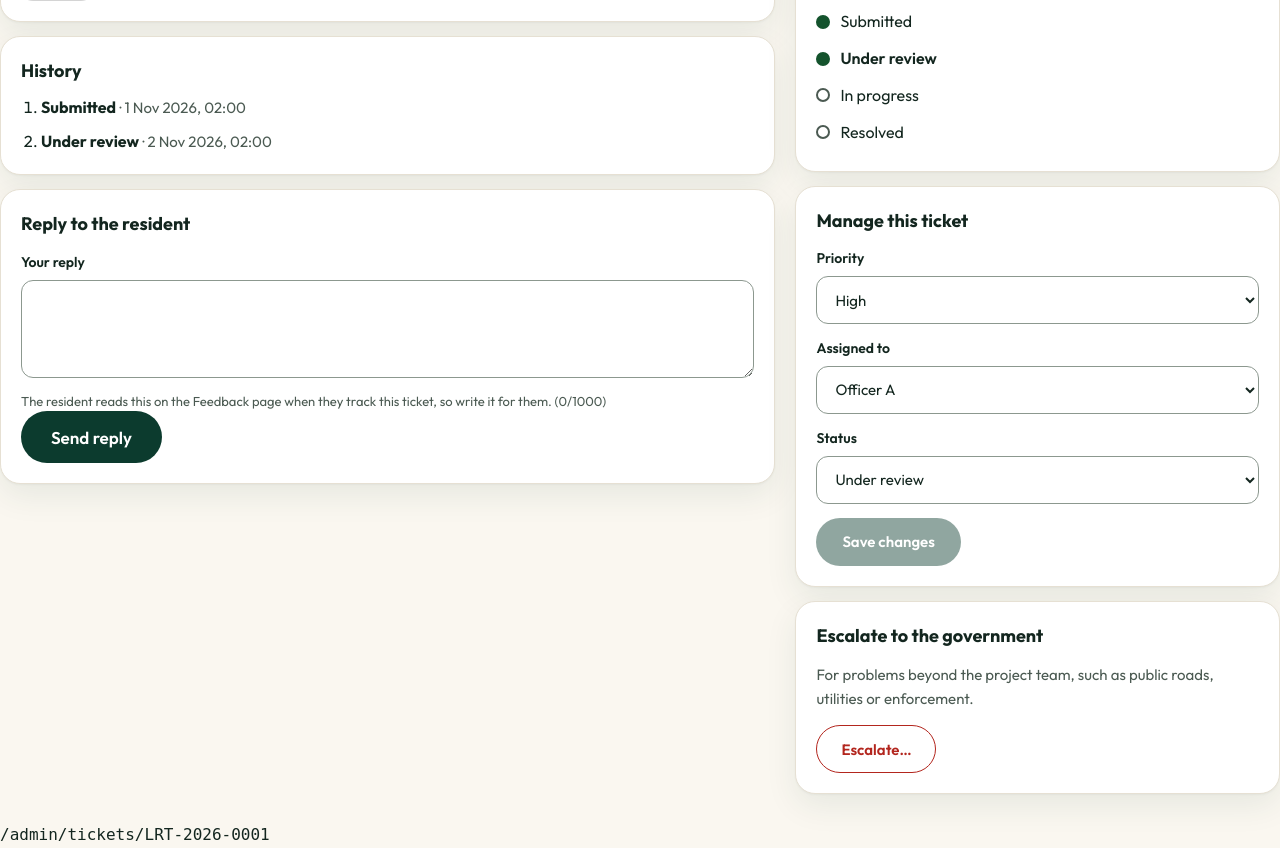
Test: ticket page (UC04 to UC07) › saves only what changed, then shows the new history entry
The image size is (1280, 848).
(page scrolled)
Expected: the button "Save changes" is disabled, [816, 518, 961, 566]
Select "In progress" in the dropdown labelled "Status" at (1038, 480), box [816, 456, 1259, 504]
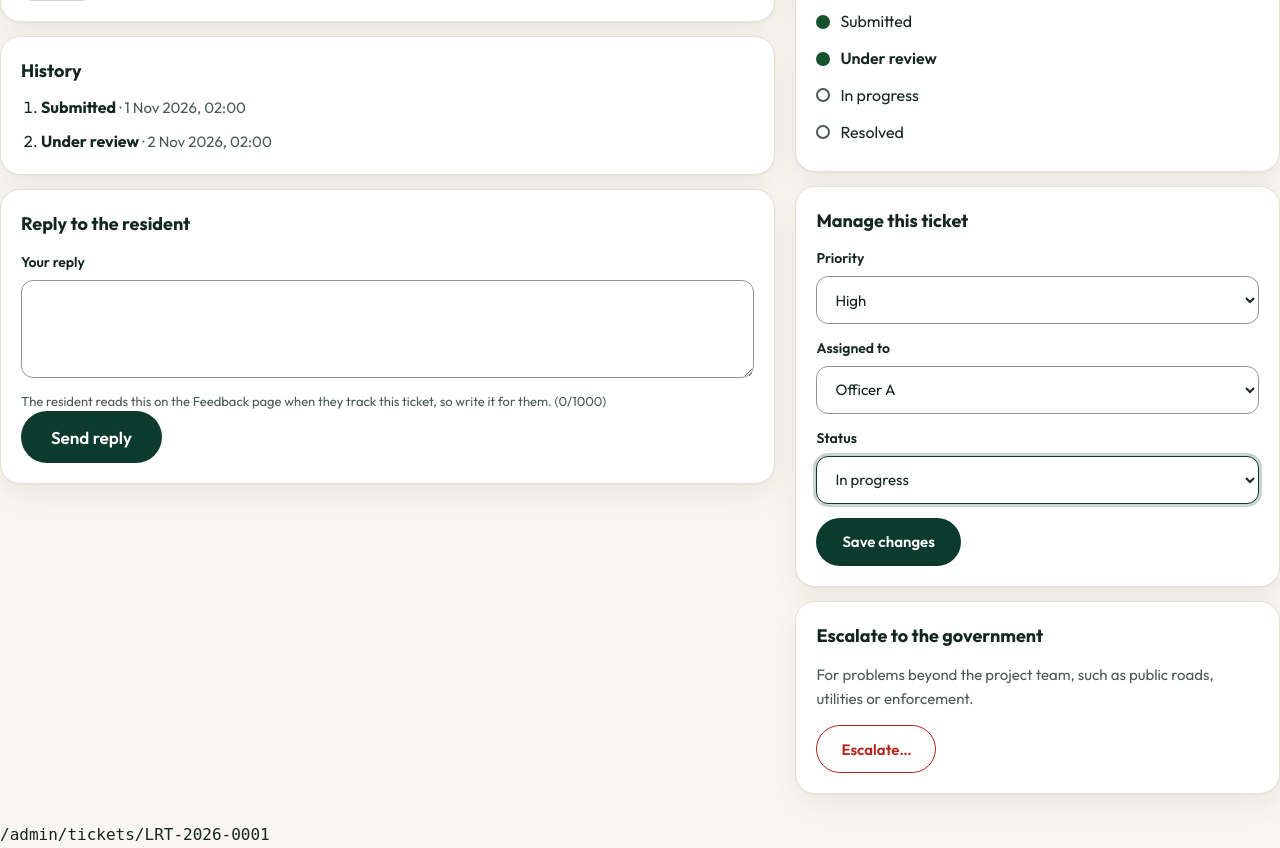
Select "Medium" in the dropdown labelled "Priority" at (1038, 300), box [816, 276, 1259, 324]
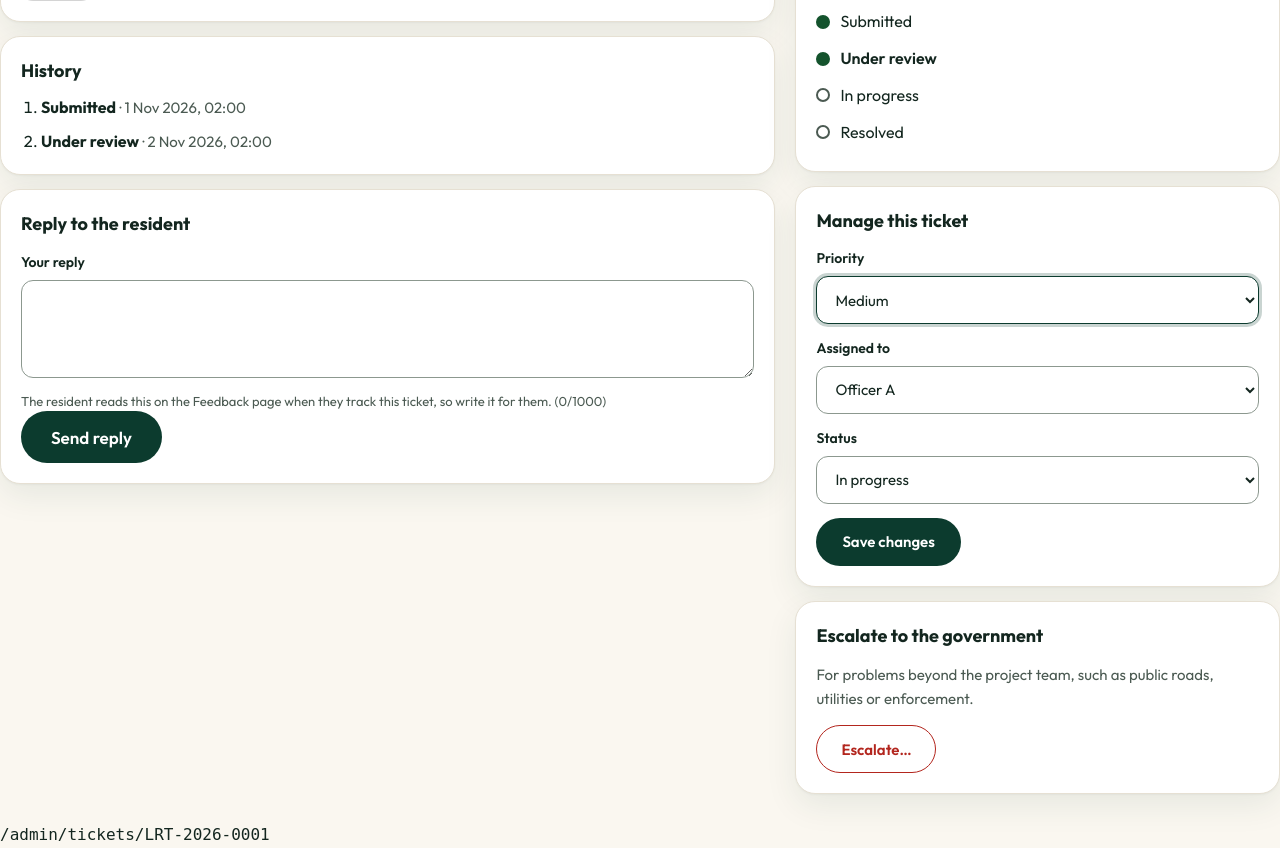
Click the button "Save changes" at (889, 542), box [816, 518, 961, 566]
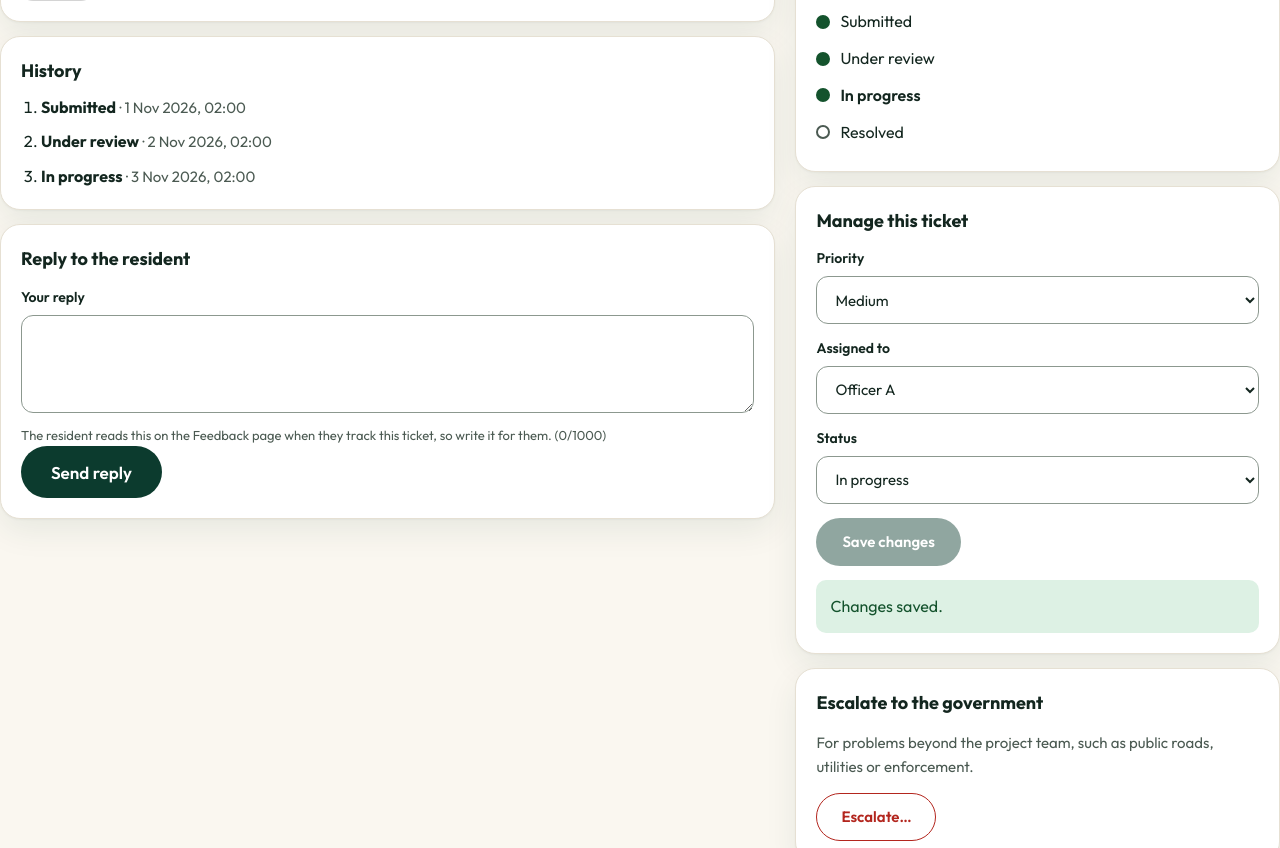
Expected: the text "Changes saved." is shown, [816, 580, 1259, 633]
Expected: the number of list items is 3, [41, 97, 246, 117]; [41, 131, 272, 151]; [41, 166, 255, 186]
Expected: the button "Save changes" is disabled, [816, 518, 961, 566]
